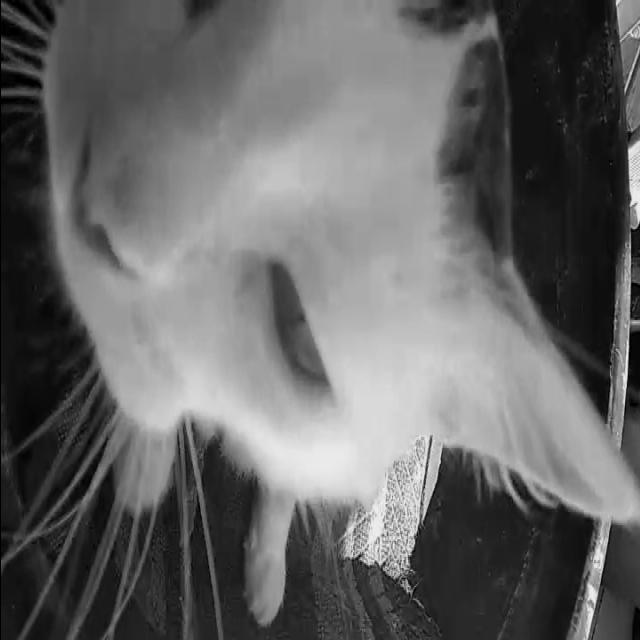Simba: (1, 12, 637, 638)
